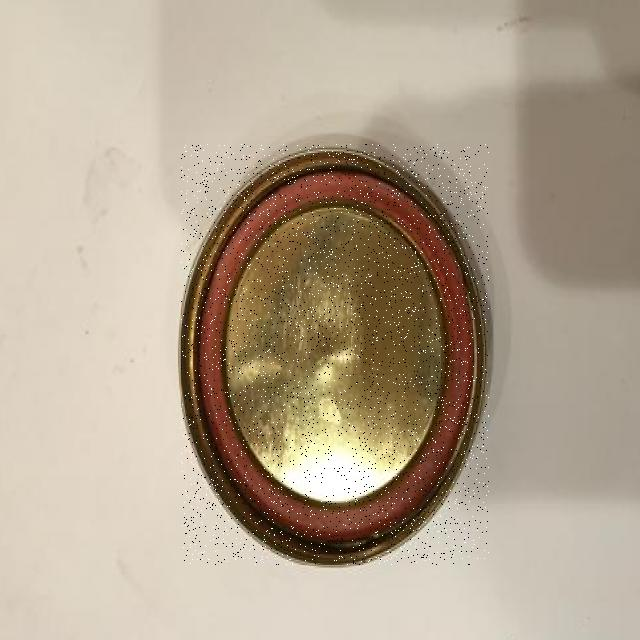metal: (182, 144, 489, 564)
